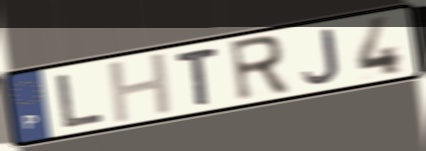4: (354, 12, 408, 78)
H: (105, 50, 177, 127)
J: (301, 26, 343, 85)
L: (55, 71, 108, 130)
R: (226, 32, 293, 105)
T: (173, 44, 222, 108)
